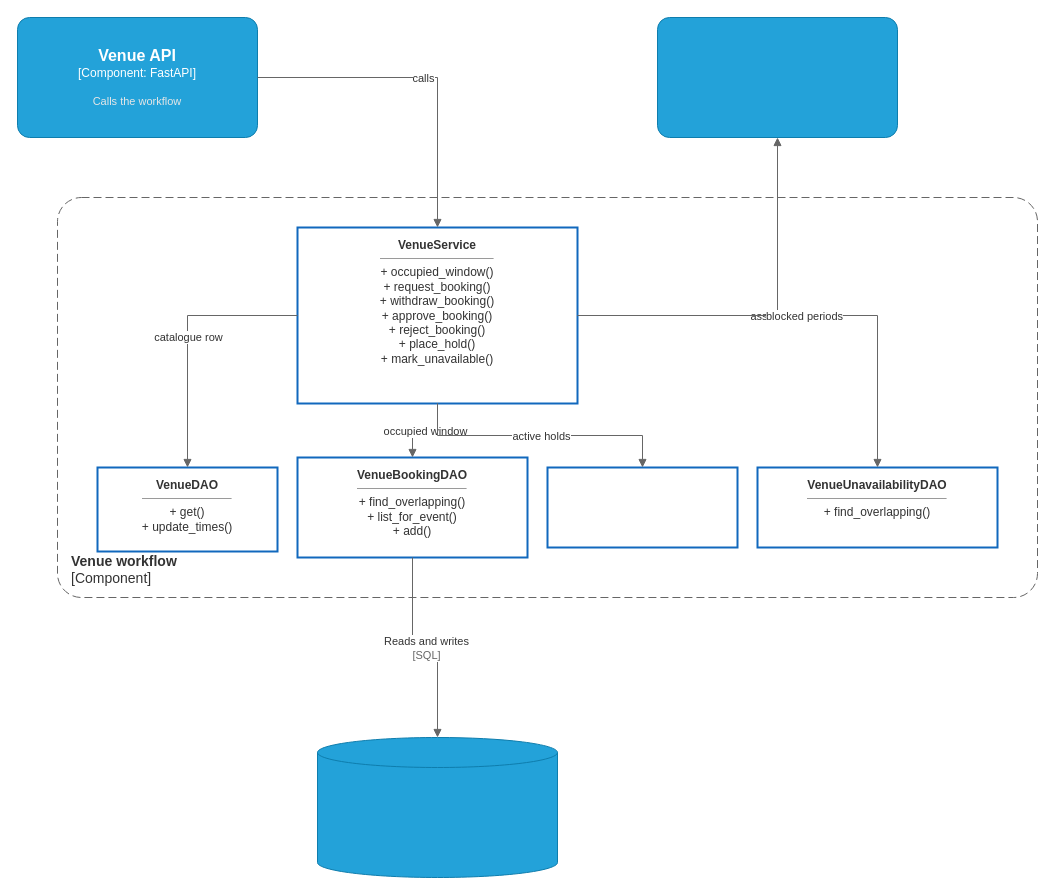
Some shapes in this 1055 by 895 pixel diagram are drawn without their labels. Here are the shapes that lost their labels. From the top down, the box of each, then its label:
(656, 16, 898, 138): Suitability [Component: Python] Occupied window, shared by search and booking
(546, 466, 738, 548): VenueHoldDAO + active_at() + expire()
(316, 736, 558, 878): Database [Container: MySQL] Venues, bookings, holds, and blocked periods
